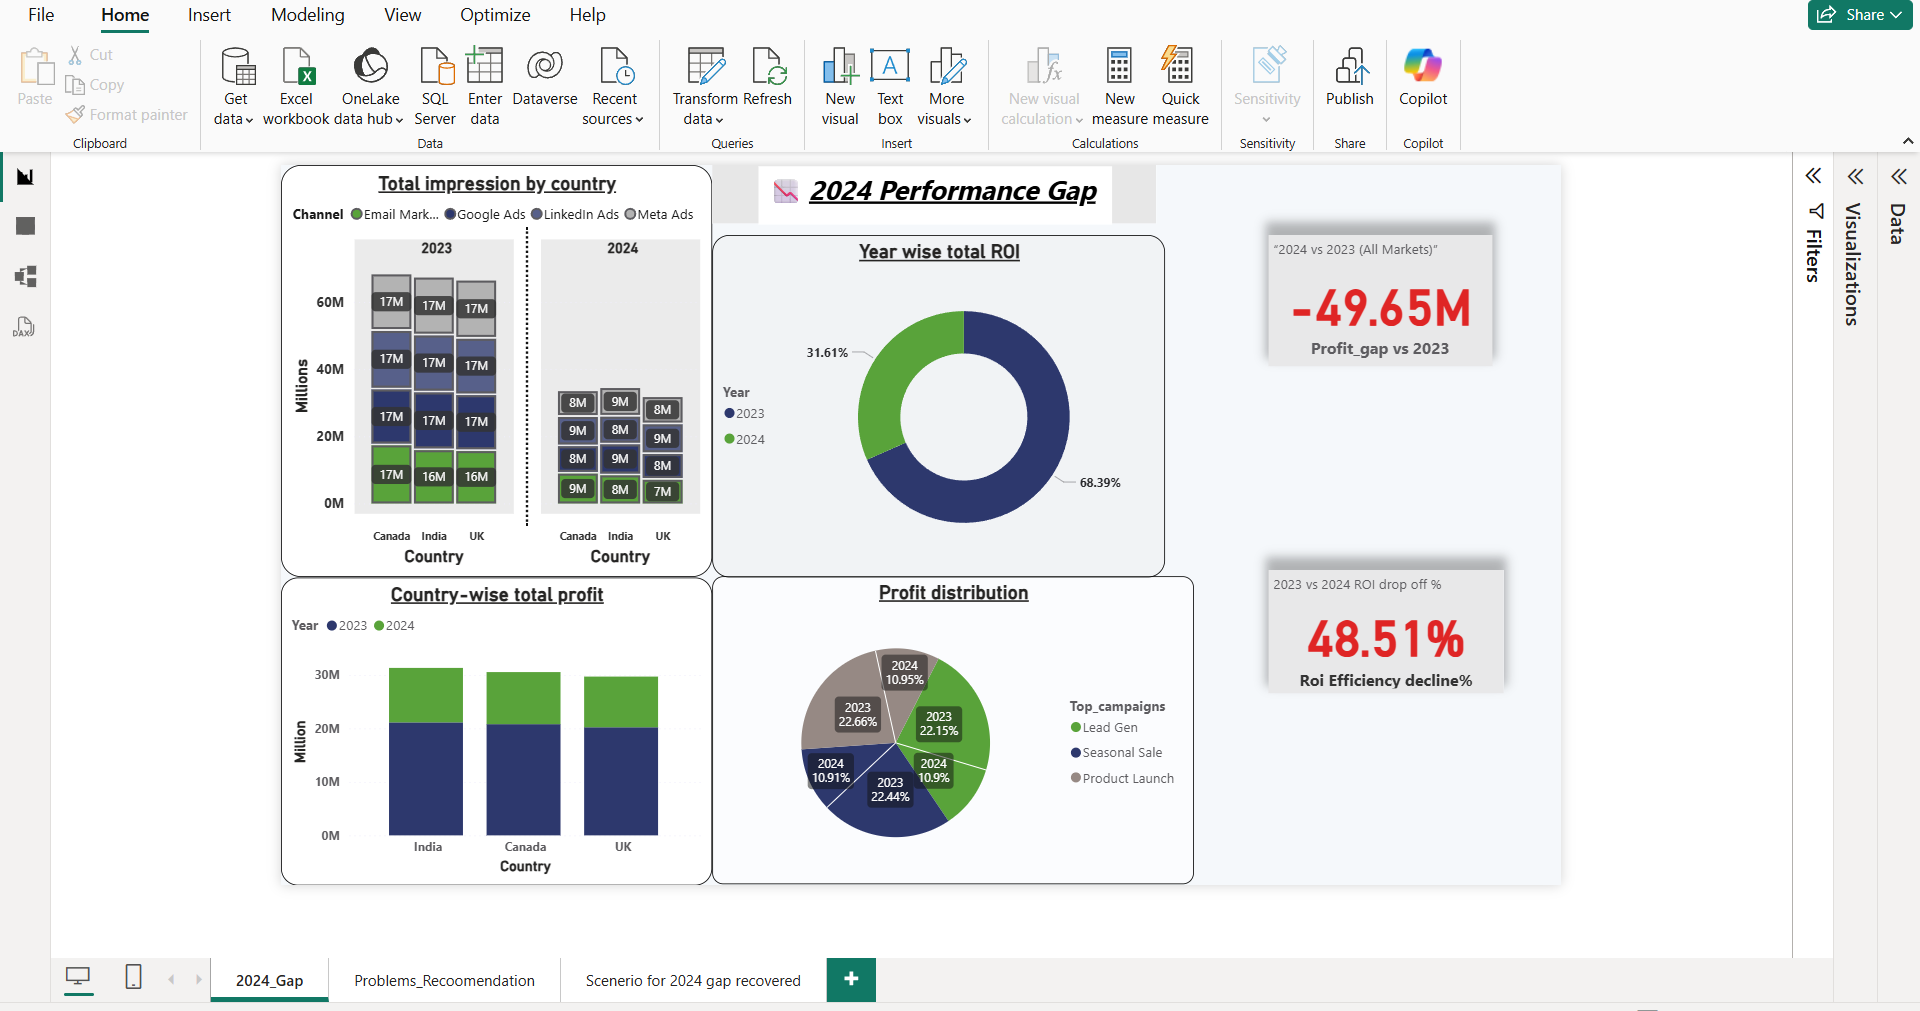

What the dashboard file says about the page in this screenshot:
{"tool":"powerbi","page":{"name":"2024_Gap","canvas":[1280,720],"ordinal":0},"visuals":[{"type":"columnChart","title":"Country-wise total profit","fields":{"Category":["Marketing1.Country"],"Y":["Sum(Marketing1.Profit)"],"Series":["Marketing1.Year"]},"box":[0,412,431,308],"z":0},{"type":"pieChart","title":"Profit distribution","fields":{"Category":["Marketing1.Campaign_Name"],"Y":["Sum(Marketing1.Profit)"],"Series":["Marketing1.Year"]},"box":[431,412,483,308],"z":1000},{"type":"donutChart","title":"Year wise total ROI","fields":{"Y":["Sum(Marketing1.ROI)"],"Series":["Marketing1.Year"]},"box":[431,70,453,342],"z":2000},{"type":"columnChart","title":"Total impression by country","fields":{"Category":["Marketing1.Country"],"Series":["Marketing1.Channel"],"Y":["Sum(Marketing1.Impressions)"],"Rows":["Marketing1.Year"]},"box":[0,0,431,412],"z":3000},{"type":"shape","box":[431.2,0,443.8,58.8],"z":4000},{"type":"textbox","box":[477.5,1.2,353.8,58.8],"z":5000},{"type":"card","fields":{"Values":["Marketing1.Profit_gap"]},"box":[987.5,70,223.8,131.2],"z":6000},{"type":"card","fields":{"Values":["Marketing1.ROI_drop"]},"box":[987.5,403.8,236.2,122.5],"z":7000}]}

Visuals, with their boxes on the page's 1280x720 design canvas (x1, y1, x2, y2). These are canvas units, not pixel positions in the 1920x1011 screenshot, which may show the page scaled, cropped or inside an application window:
"Country-wise total profit" columnChart: (0, 412, 431, 720)
"Profit distribution" pieChart: (431, 412, 914, 720)
"Year wise total ROI" donutChart: (431, 70, 884, 412)
"Total impression by country" columnChart: (0, 0, 431, 412)
shape: (431, 0, 875, 59)
textbox: (478, 1, 831, 60)
card - Marketing1.Profit_gap: (988, 70, 1211, 201)
card - Marketing1.ROI_drop: (988, 404, 1224, 526)
